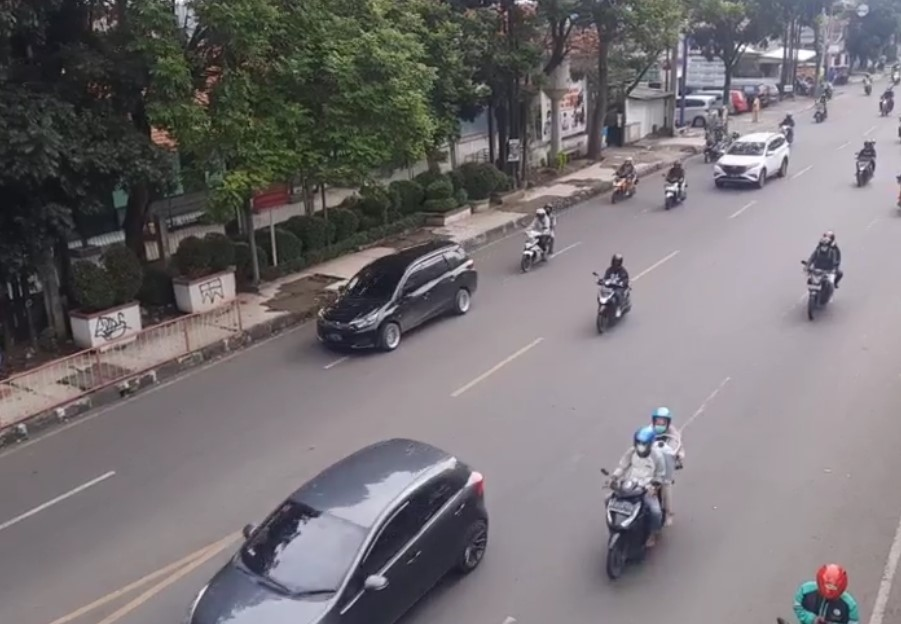motor: (593, 405, 694, 578), (798, 228, 851, 327), (592, 252, 636, 341), (514, 203, 560, 276), (607, 154, 645, 205), (661, 163, 694, 211)
